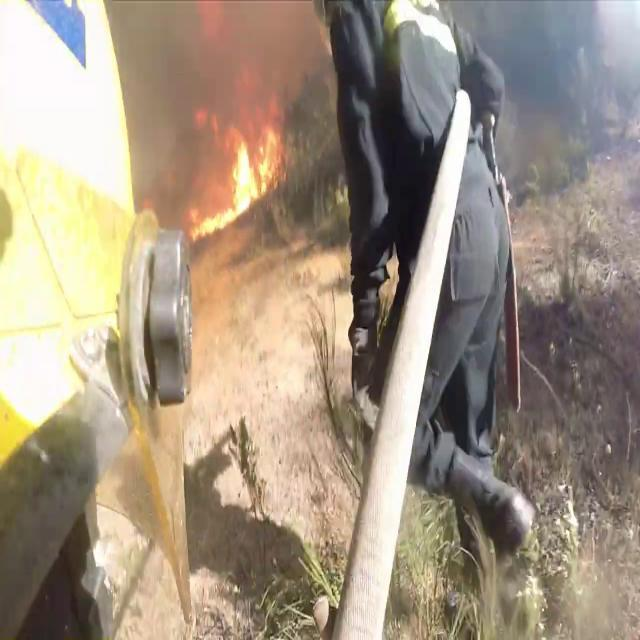Fire: (194, 110, 286, 237)
Smoke: (117, 0, 335, 162)
